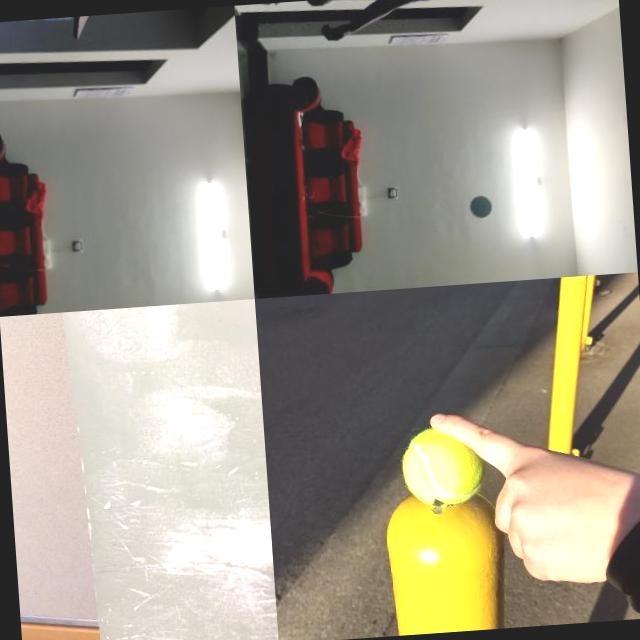Tennis Ball: (400, 426, 487, 510), (469, 195, 492, 218)
